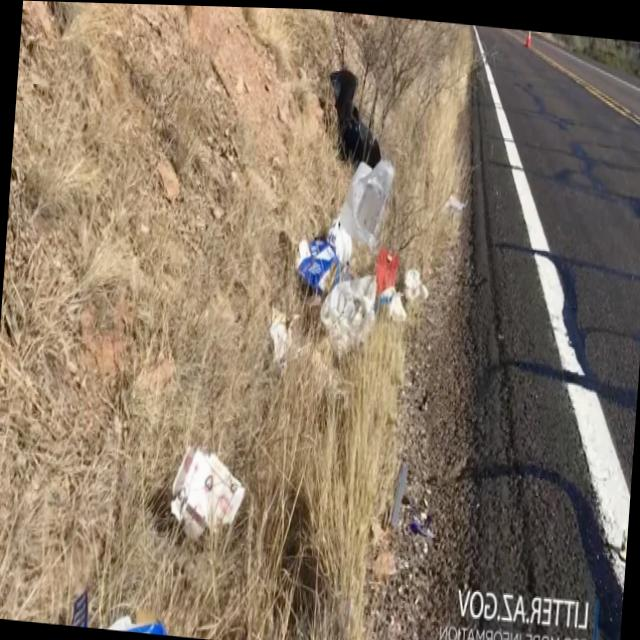Cardboard: (290, 223, 340, 292)
Paper: (400, 254, 431, 308)
Plastic: (158, 433, 252, 557), (330, 142, 398, 257), (312, 261, 383, 365), (256, 298, 301, 370), (378, 284, 408, 328)
